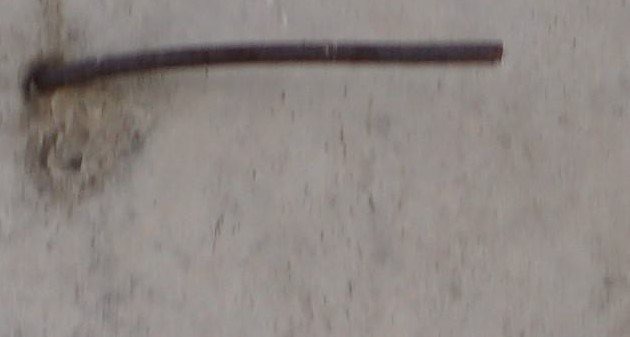Exposed reinforcement: (33, 39, 503, 97)
Spalling: (23, 108, 161, 204)
